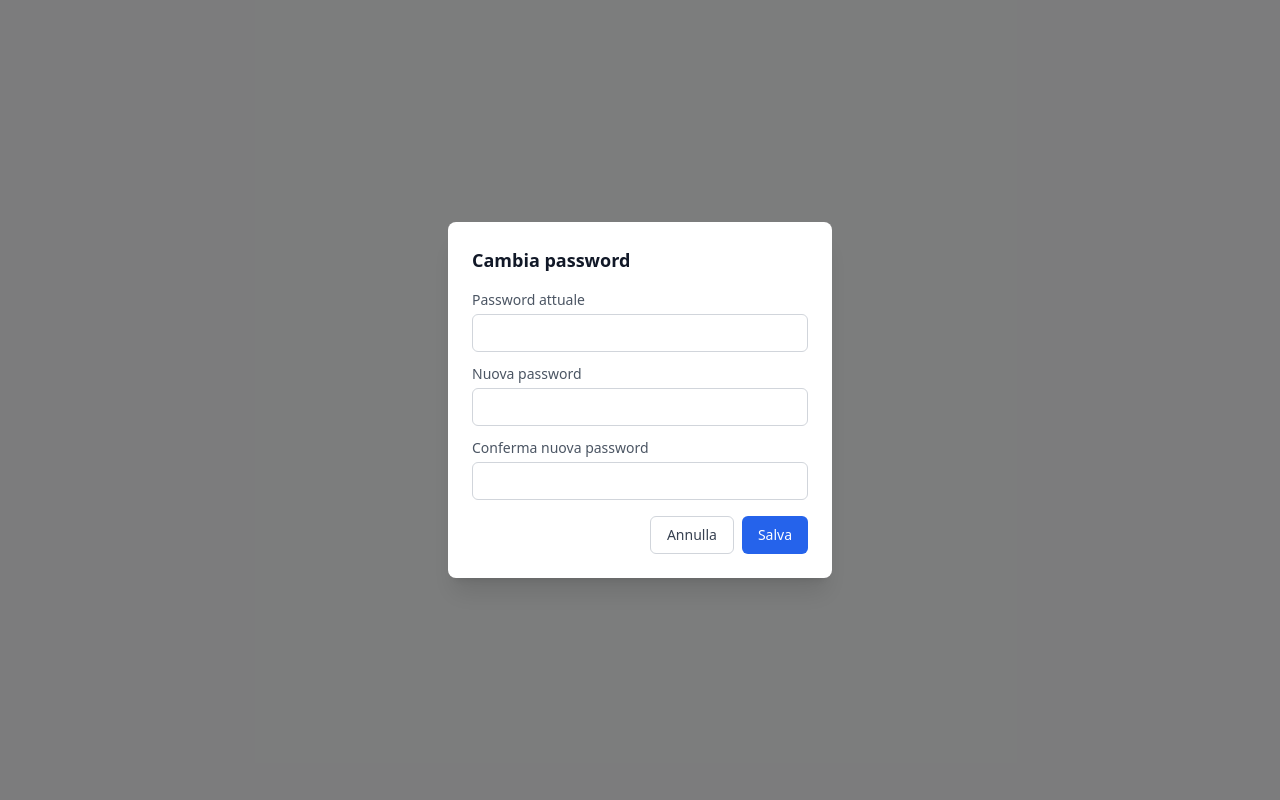
Test: ChangePasswordModal › shows success after a valid change
The image size is (1280, 800).
Step 1. Type "old" into the password field labelled "Password attuale" → (640, 333), box top-left (472, 314), bottom-right (808, 352)
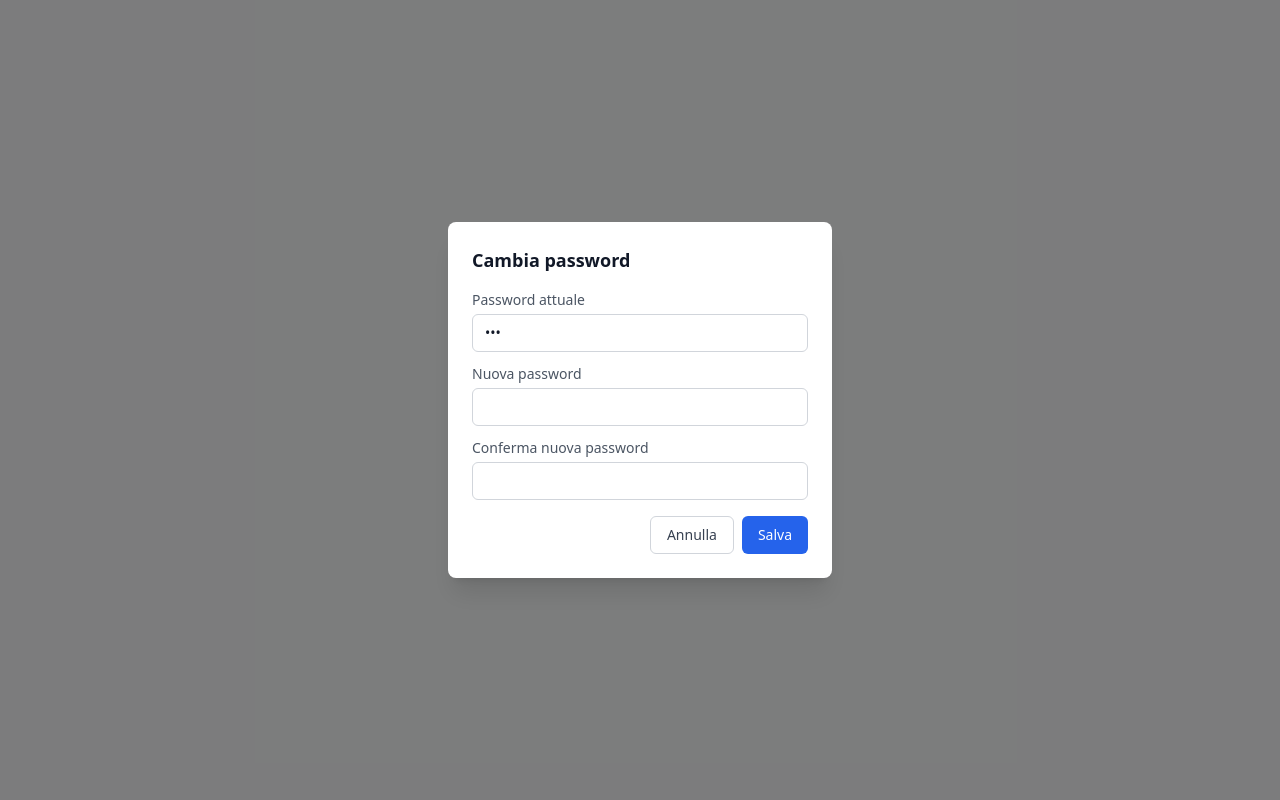
Step 2. Type "newpass1" into the password field labelled "Nuova password" → (640, 407), box top-left (472, 388), bottom-right (808, 426)
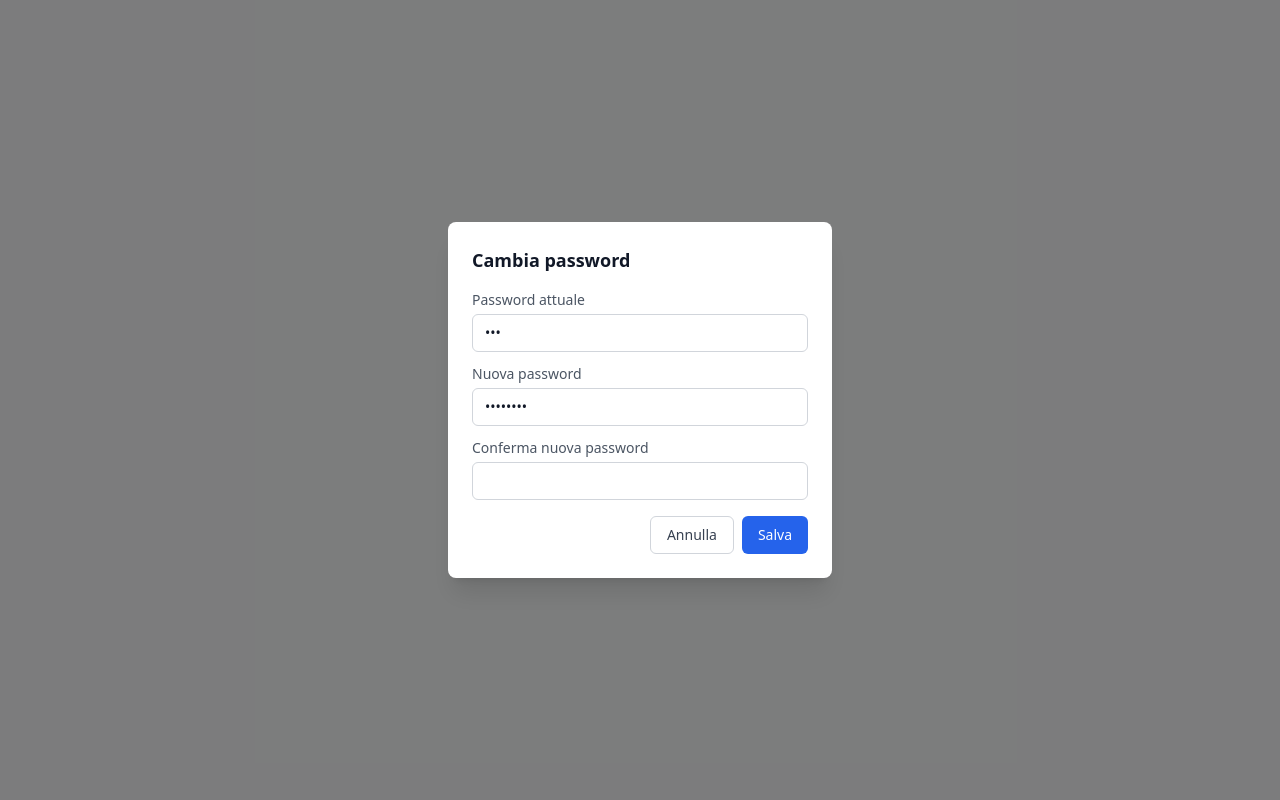
Step 3. Type "newpass1" into the password field labelled "Conferma nuova password" → (640, 481), box top-left (472, 462), bottom-right (808, 500)
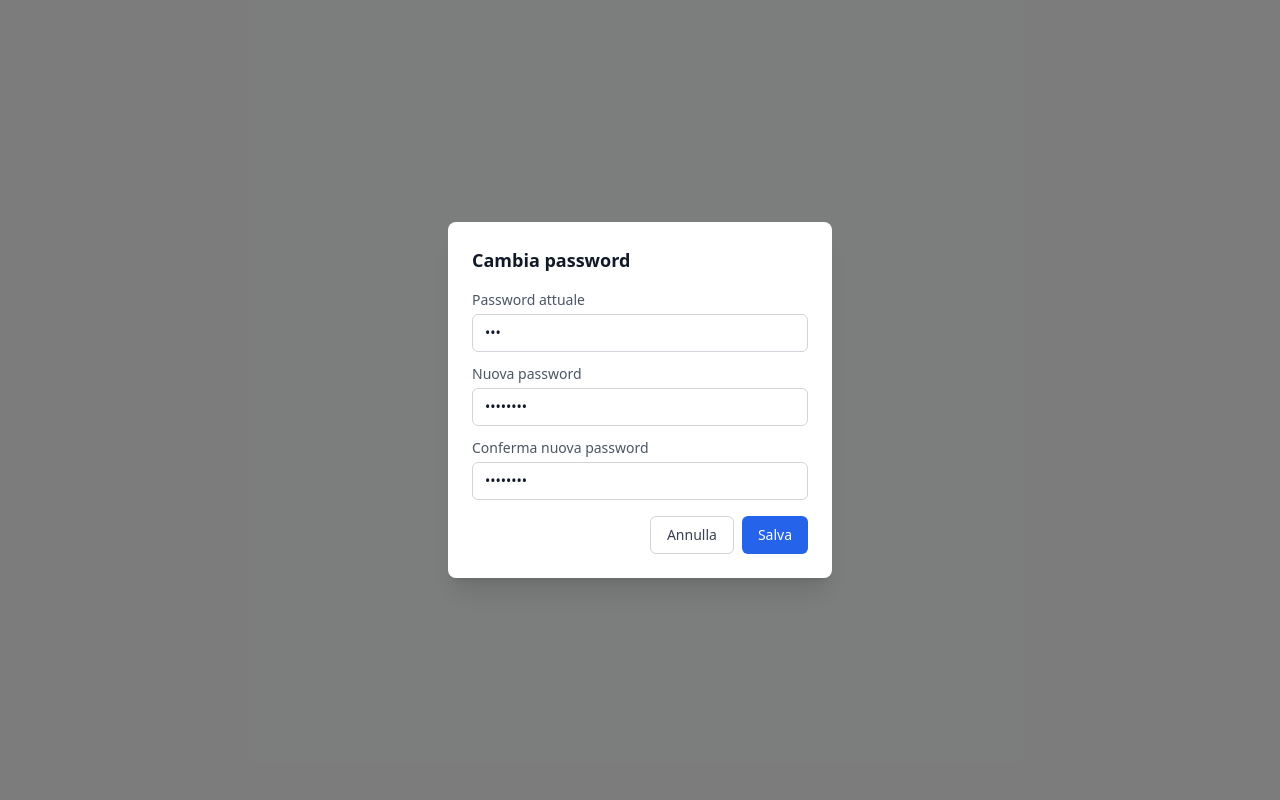
Step 4. Click the button "Salva" → (775, 535), box top-left (742, 516), bottom-right (808, 554)
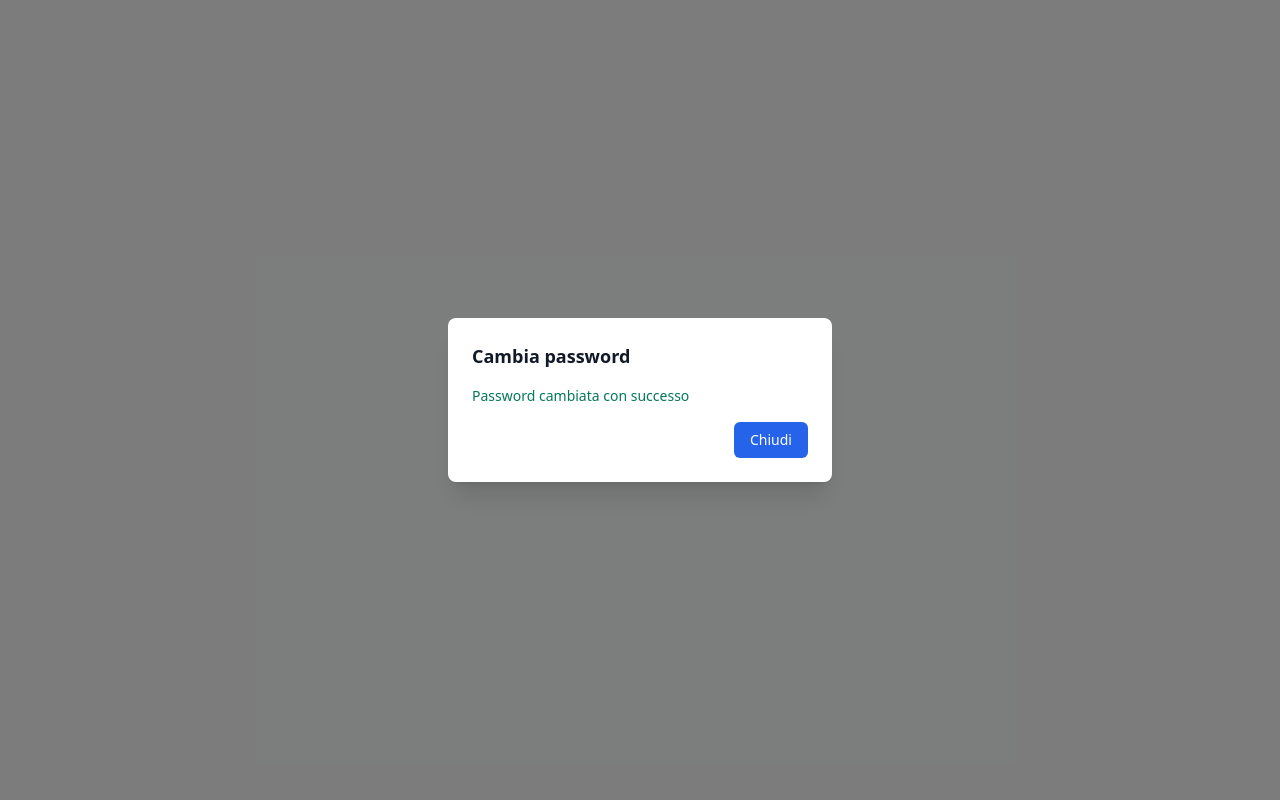
Expected: the text "Password cambiata con successo" is shown, top-left (472, 386), bottom-right (689, 405)
